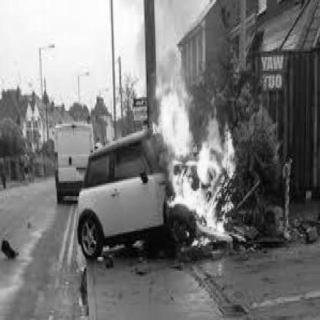Fire: (146, 56, 248, 252)
